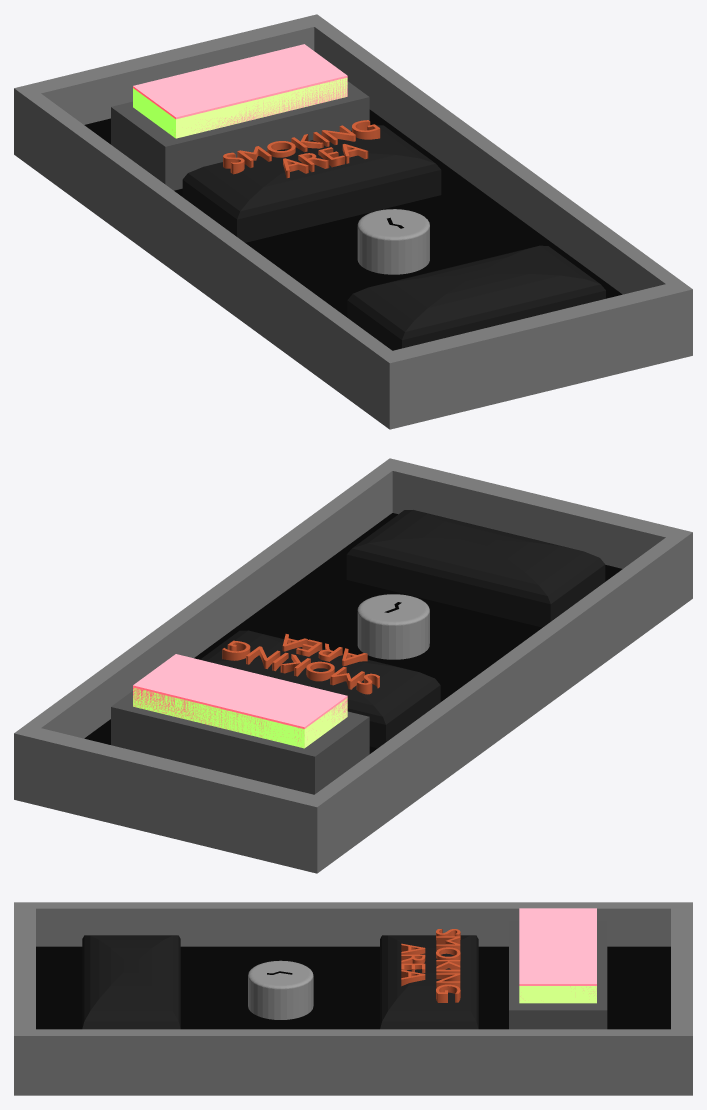
Rendered from Lock1.fbx.
3 renders of one model, top to bottom at view 1: azimuth 30°, elevation 25°; view 2: azimuth 150°, elevation 25°; view 3: azimuth 270°, elevation 25°, orthographic. The views are drawn at different scales.
Visible parts, largest first — view 1: Cube, REd; view 2: Cube, REd; view 3: Cube, REd.
Part boxes in pixels (<box>): Cube: <box>14,14,692,429</box>; REd: <box>133,44,347,131</box>; Cube: <box>14,458,692,873</box>; REd: <box>133,654,347,741</box>; Cube: <box>14,902,692,1095</box>; REd: <box>519,908,596,1000</box>.
Size of the model in its own units: 5.1 by 1.47 by 10.96.
